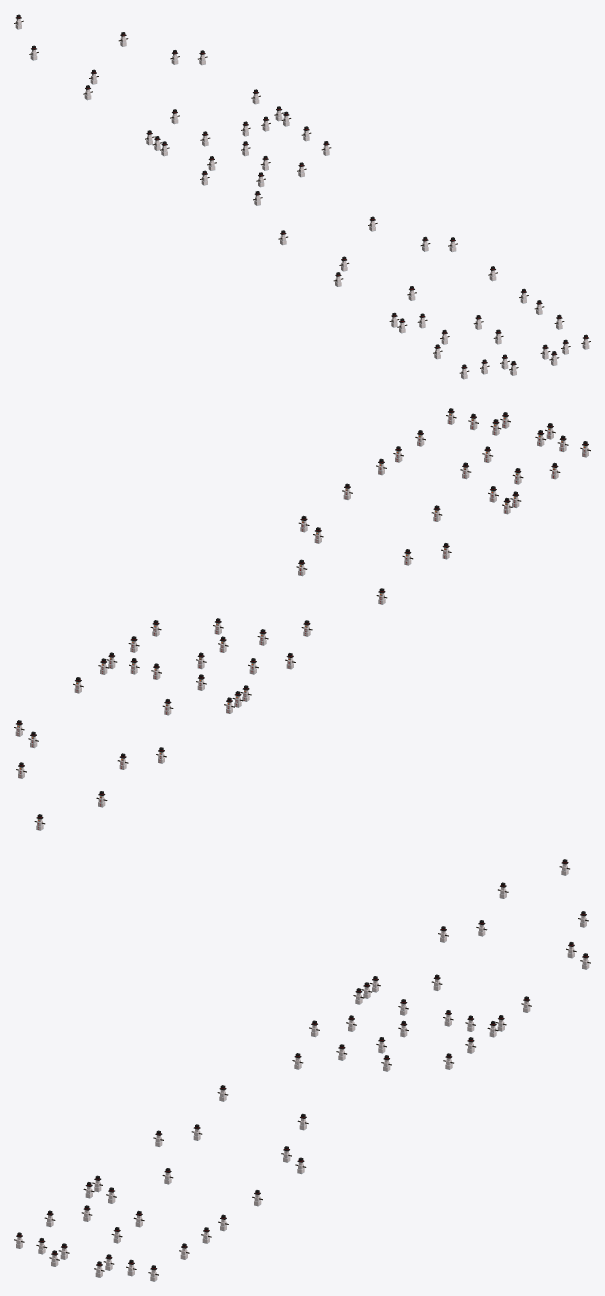
The model's file is Mono_nieve.obj.
The picture shows the model from 3 angles, top to bottom: view 1: azimuth 30°, elevation 25°; view 2: azimuth 150°, elevation 25°; view 3: azimuth 330°, elevation 25°; orthographic projection. The views are drawn at different scales.
Bounding box in the file's own units: 53.23 × 4.9 × 329.
Materials: 1 (1 with a texture image).
